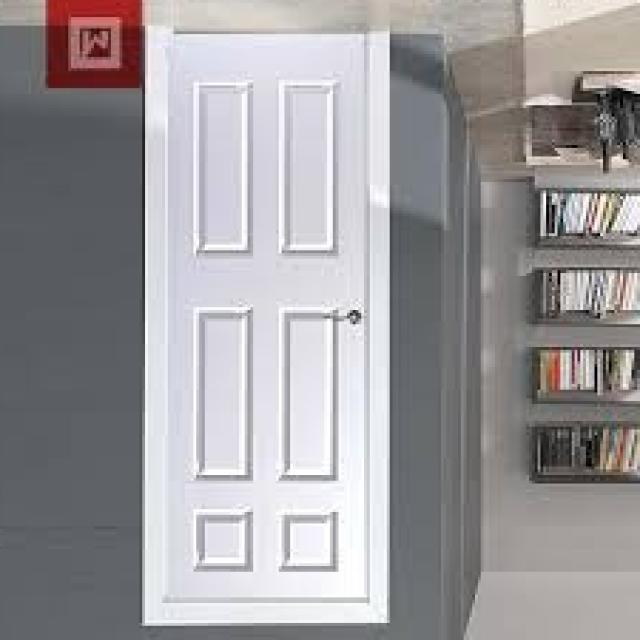door: (147, 30, 386, 627)
